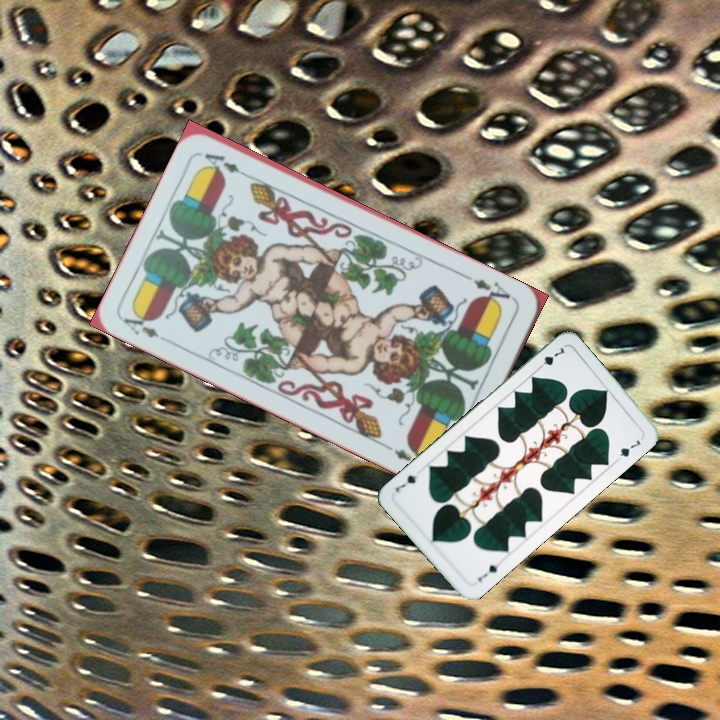EA: (469, 275, 518, 310), (119, 307, 161, 341)
G7: (533, 343, 568, 373), (474, 561, 500, 585)
